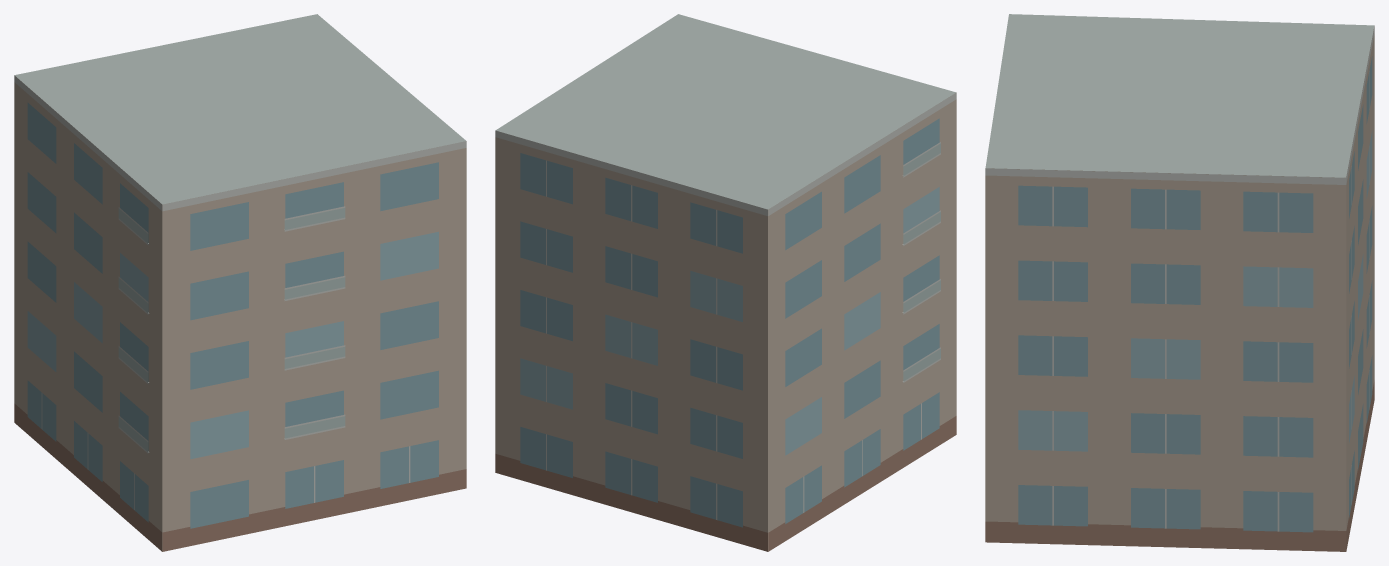
File: survey-upis-32659244.glb
The picture shows the model from 3 angles, left to right: view 1: azimuth 30°, elevation 25°; view 2: azimuth 150°, elevation 25°; view 3: azimuth 270°, elevation 25°; orthographic projection. The views are drawn at different scales.
Visible parts, largest first — view 1: survey-upis-32659244.tmp; view 2: survey-upis-32659244.tmp; view 3: survey-upis-32659244.tmp.
Boxes of the visible parts, left/top/right/bottom form: survey-upis-32659244.tmp: left=14, top=14, right=466, bottom=551; survey-upis-32659244.tmp: left=495, top=14, right=956, bottom=551; survey-upis-32659244.tmp: left=985, top=14, right=1374, bottom=551.
Size of the model in its own units: 11.74 by 12.5 by 11.79.
